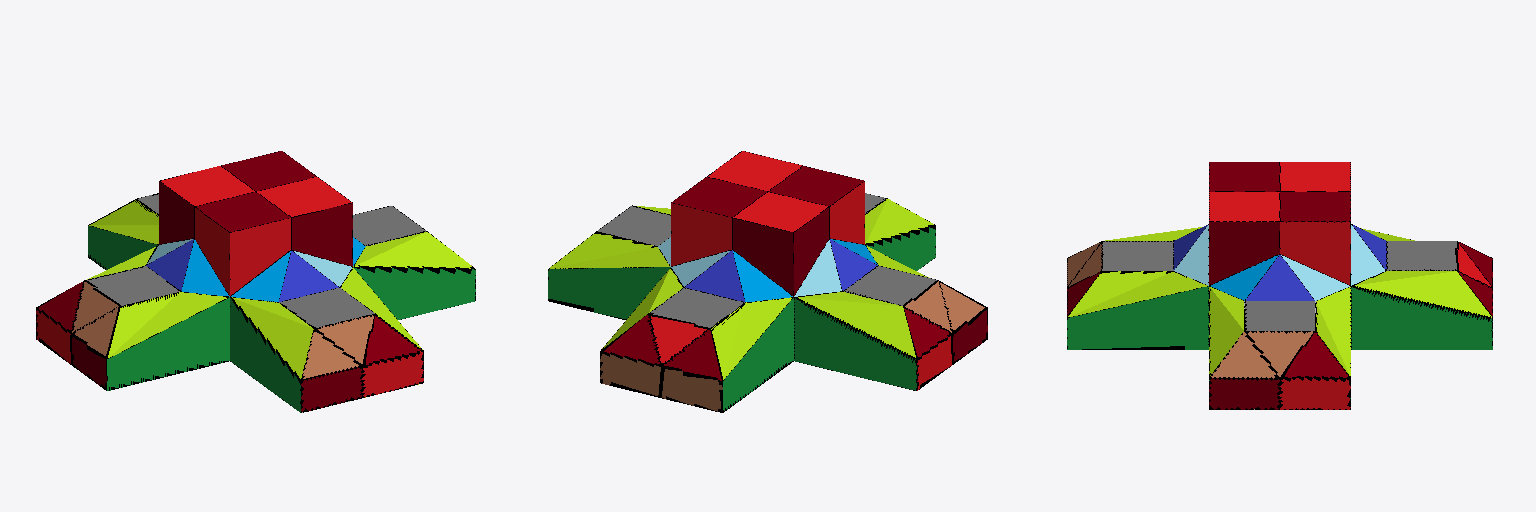
3 renders of one model, left to right at view 1: azimuth 30°, elevation 25°; view 2: azimuth 150°, elevation 25°; view 3: azimuth 270°, elevation 25°, orthographic.
Visible parts, largest first — view 1: Cube_Cube.001; view 2: Cube_Cube.001; view 3: Cube_Cube.001.
Boxes of the visible parts, x1=… form: Cube_Cube.001: x1=36, y1=151, x2=475, y2=412; Cube_Cube.001: x1=548, y1=151, x2=987, y2=412; Cube_Cube.001: x1=1067, y1=162, x2=1492, y2=409.
Size of the model in its own units: 6 by 2 by 6.
1 materials, 1 textured.